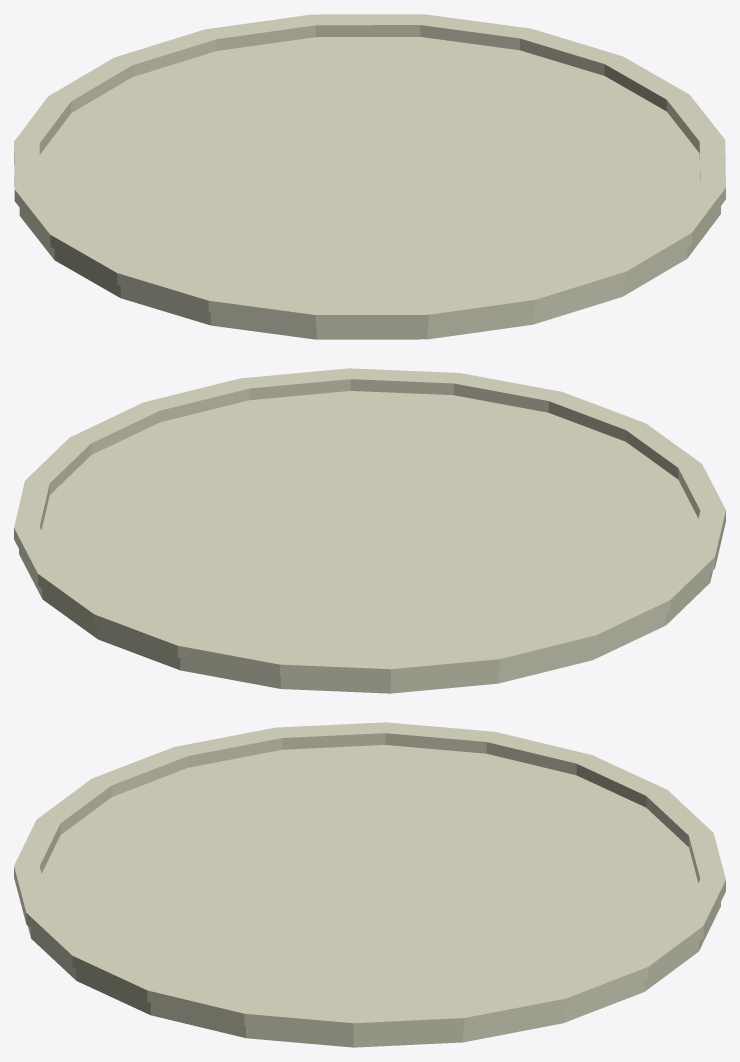
File: plate.fbx
3 views of the same model, one above another, from view 1: azimuth 30°, elevation 25°; view 2: azimuth 150°, elevation 25°; view 3: azimuth 270°, elevation 25° (orthographic).
Visible parts, largest first — view 1: polySurface91; view 2: polySurface91; view 3: polySurface91.
Part boxes in pixels (box(x1,y1,x2,y2)): polySurface91: box(14, 14, 725, 339); polySurface91: box(14, 368, 725, 693); polySurface91: box(14, 722, 725, 1047).
Size of the model in its own units: 28.96 by 1.85 by 28.96.
